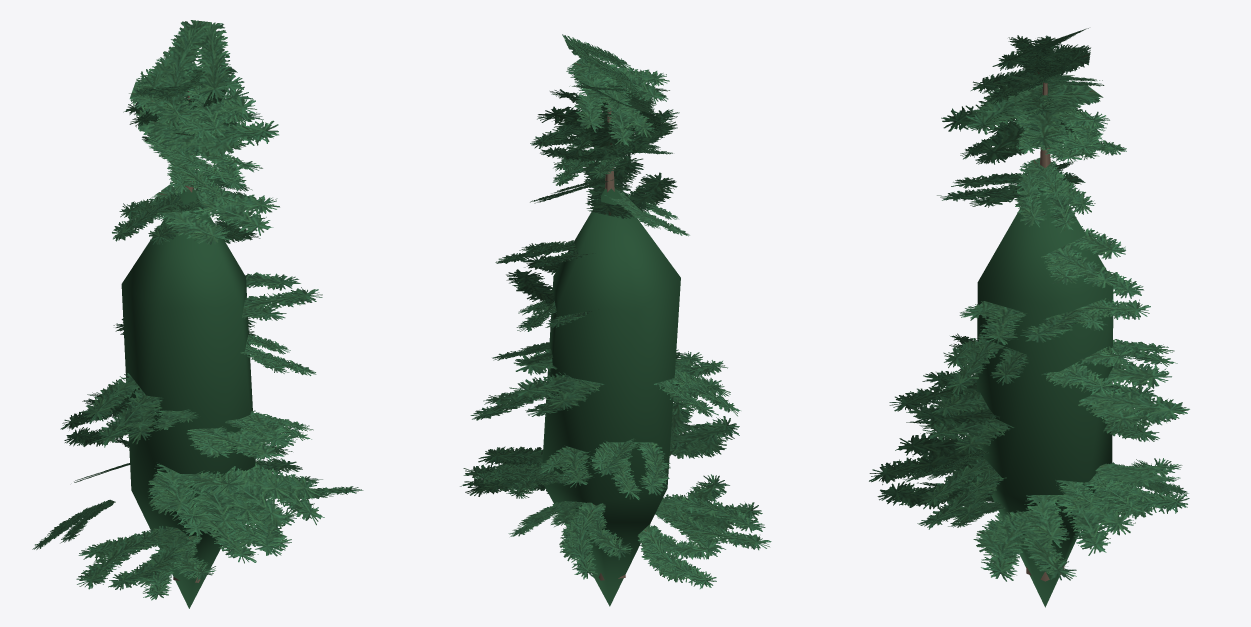
The model's file is ABIES_2.glb.
3 views of the same model, side by side, from view 1: azimuth 30°, elevation 25°; view 2: azimuth 150°, elevation 25°; view 3: azimuth 270°, elevation 25° (orthographic). The views are drawn at different scales.
Visible parts, largest first — view 1: Arv_ABIES_lod2; view 2: Arv_ABIES_lod2; view 3: Arv_ABIES_lod2.
Part boxes in pixels (left/top/right/bottom): Arv_ABIES_lod2: left=32, top=20, right=363, bottom=608; Arv_ABIES_lod2: left=460, top=34, right=771, bottom=606; Arv_ABIES_lod2: left=869, top=28, right=1189, bottom=607.
Bounding box in the file's own units: 6.51 × 10.91 × 6.74.
Materials: 3 (1 with a texture image).
